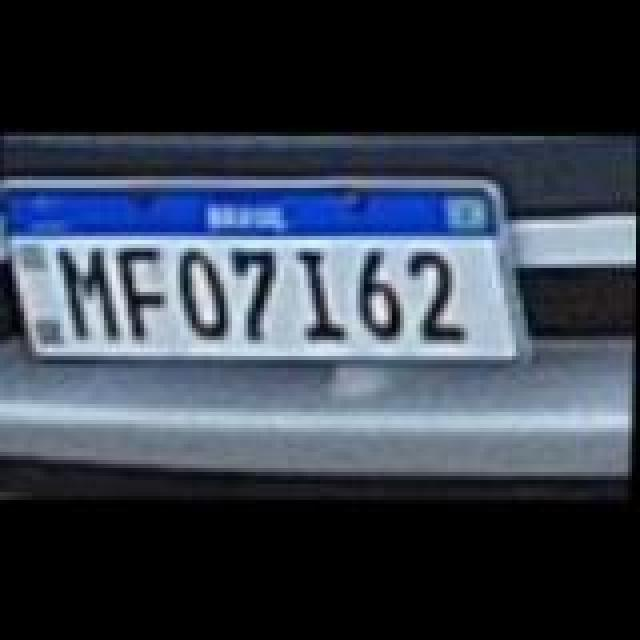2: (398, 244, 474, 340)
6: (346, 248, 414, 340)
7: (224, 244, 296, 340)
D: (174, 246, 242, 338)
F: (112, 244, 184, 340)
I: (288, 244, 360, 340)
M: (54, 240, 130, 340)
